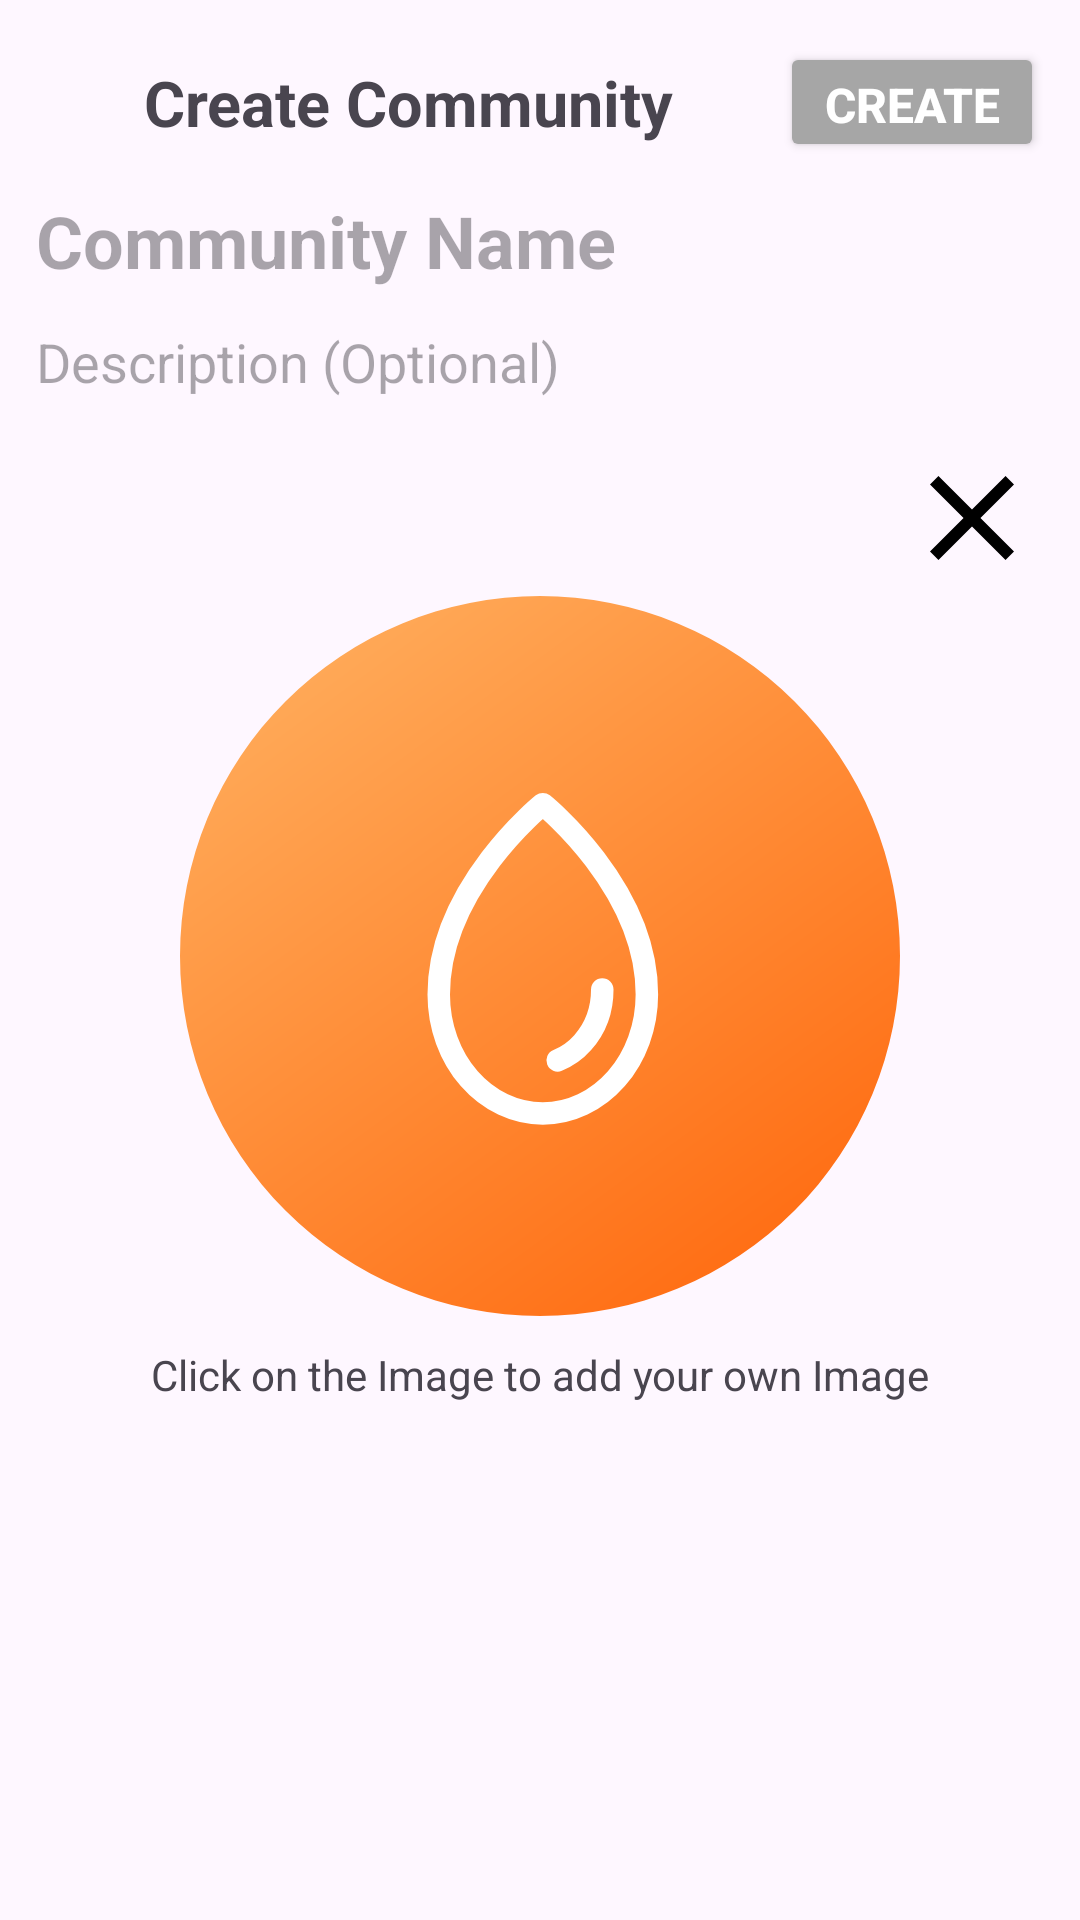

Named icons in this screenshot (1080px x 1920px) and their bounding boxes, (x1, y1, x2, y2):
close: (930, 476, 1014, 560)
